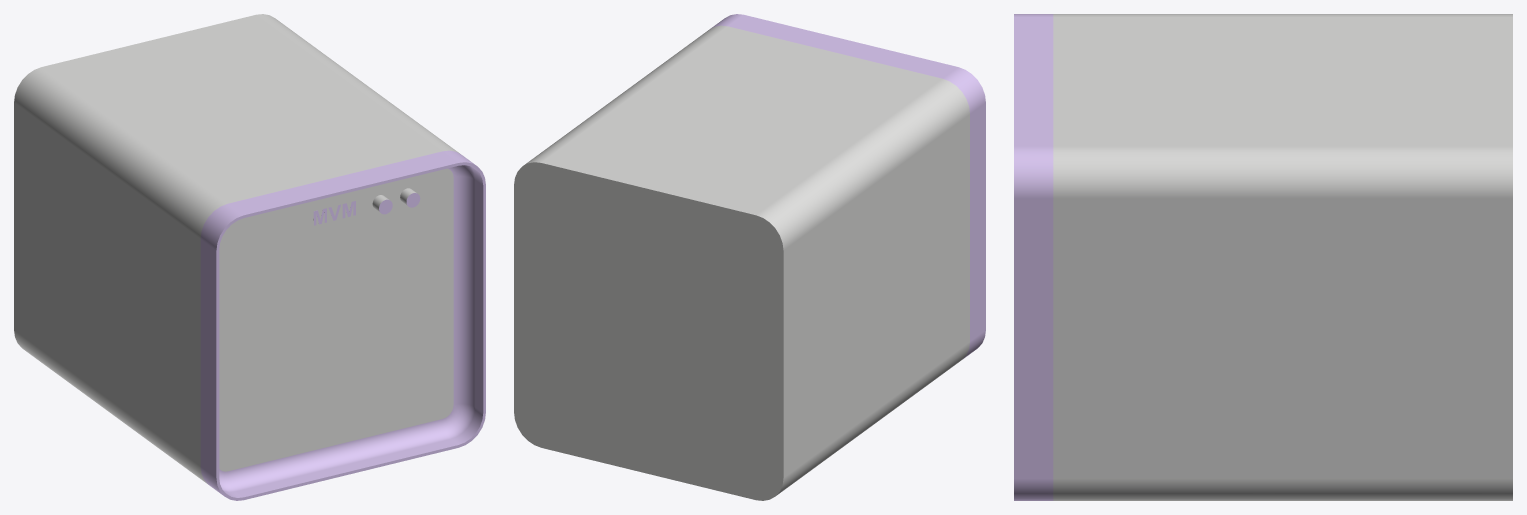
Rendered from mvm.glb.
The picture shows the model from 3 angles, left to right: view 1: azimuth 30°, elevation 25°; view 2: azimuth 150°, elevation 25°; view 3: azimuth 270°, elevation 25°; orthographic projection. The views are drawn at different scales.
Visible parts, largest first — view 1: Multi Vital Module v4; view 2: Multi Vital Module v4; view 3: Multi Vital Module v4.
Part boxes in pixels (box(x1,y1,x2,y2)): Multi Vital Module v4: box(14, 14, 485, 500); Multi Vital Module v4: box(514, 14, 985, 500); Multi Vital Module v4: box(1014, 14, 1512, 500).
Size of the model in its own units: 9.8 by 9.9 by 12.75.
